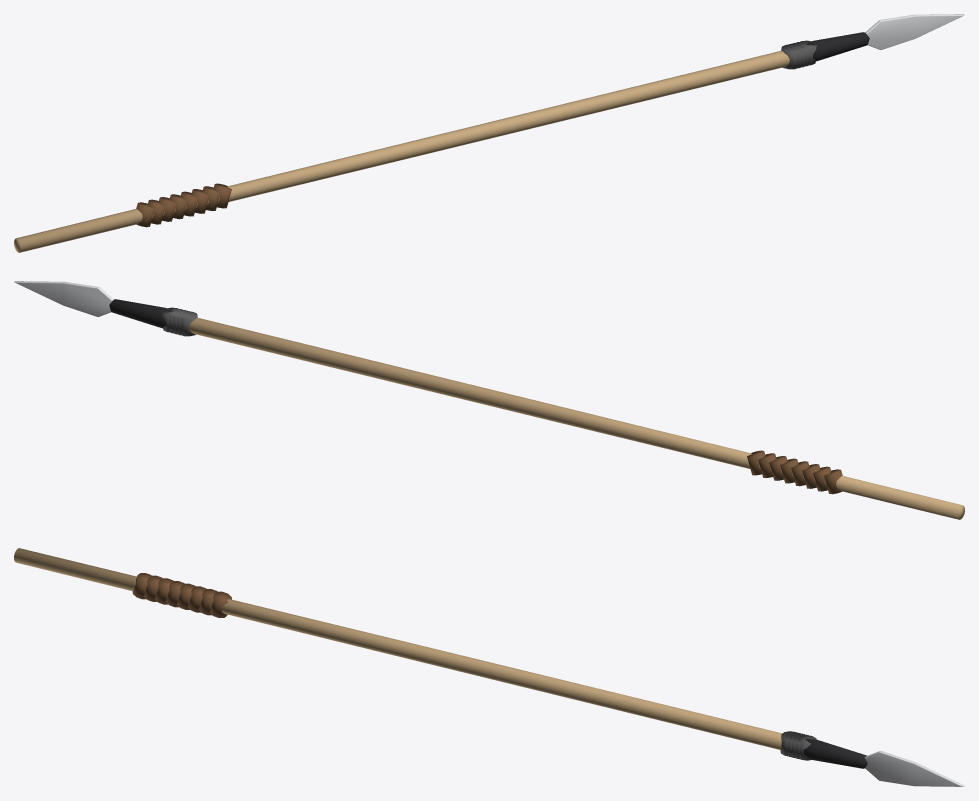
Rendered from SM_Spear.glb.
3 views of the same model, one above another, from view 1: azimuth 30°, elevation 25°; view 2: azimuth 150°, elevation 25°; view 3: azimuth 330°, elevation 25° (orthographic).
Parts seen in each view (by area): view 1: SM_Spear; view 2: SM_Spear; view 3: SM_Spear.
Boxes of the visible parts, x1,y1,x2,y2 form: SM_Spear: (14,14,964,252); SM_Spear: (14,281,964,519); SM_Spear: (14,548,964,786).
Bounding box in the file's own units: 1.9 × 0.0557 × 0.0351.
